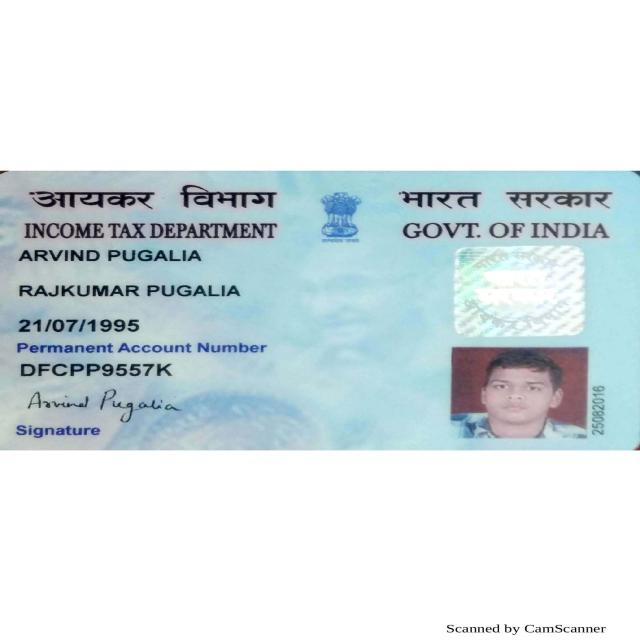pan_card: (0, 172, 629, 451)
